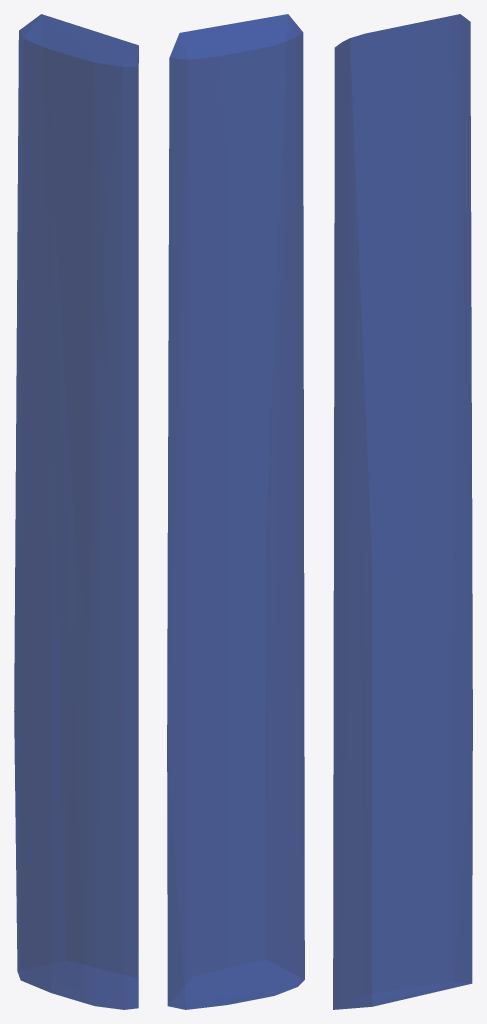
3 renders of one model, left to right at view 1: azimuth 90°, elevation 25°; view 2: azimuth 150°, elevation 25°; view 3: azimuth 330°, elevation 25°, orthographic. The views are drawn at different scales.
Parts seen in each view (by area): view 1: Shape_IndexedFaceSet.047_Shape_IndexedFaceSet.10450; view 2: Shape_IndexedFaceSet.047_Shape_IndexedFaceSet.10450; view 3: Shape_IndexedFaceSet.047_Shape_IndexedFaceSet.10450.
Boxes of the visible parts, x1,y1,x2,y2 form: Shape_IndexedFaceSet.047_Shape_IndexedFaceSet.10450: (14, 14, 138, 1009); Shape_IndexedFaceSet.047_Shape_IndexedFaceSet.10450: (167, 14, 304, 1009); Shape_IndexedFaceSet.047_Shape_IndexedFaceSet.10450: (333, 14, 472, 1009).
Bounding box in the file's own units: 0.0946 × 1.14 × 0.1344.
